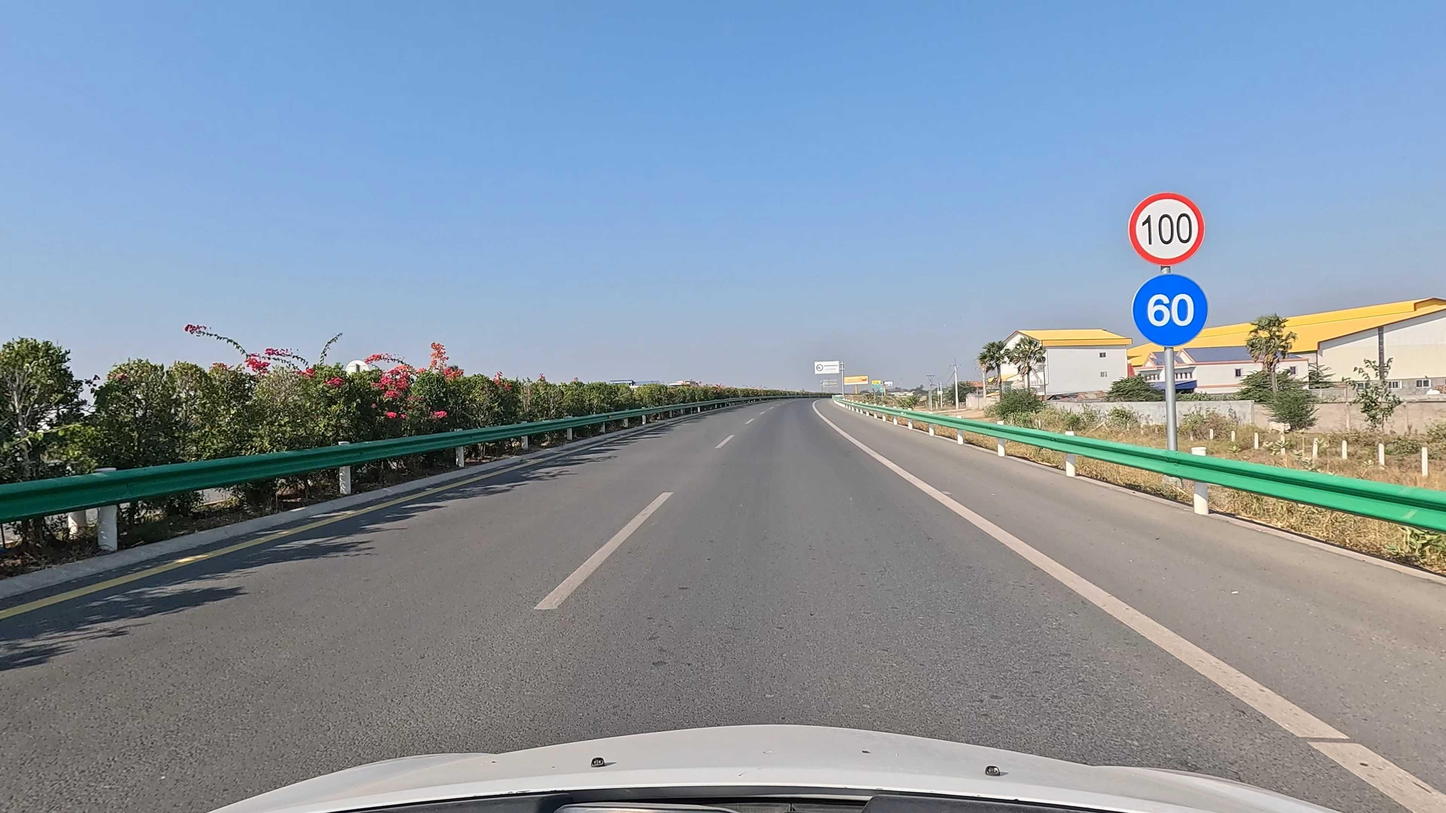speed_limit_100: (1123, 191, 1209, 265)
speed_limit_60: (1130, 273, 1210, 349)
